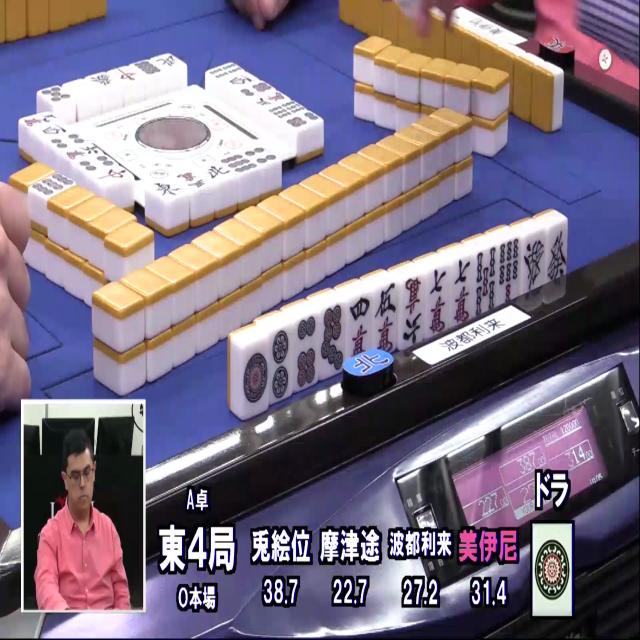1D: (531, 523, 576, 615), (238, 340, 270, 416)
2D: (268, 327, 295, 404)
4C: (345, 293, 374, 358)
5B: (474, 248, 500, 318)
5C: (373, 282, 401, 354)
6C: (399, 276, 429, 349)
6D: (292, 315, 321, 391)
7B: (498, 239, 523, 307)
7C: (425, 264, 452, 336), (450, 256, 474, 326)
7D: (318, 302, 346, 377)
GD: (525, 234, 549, 294), (548, 227, 569, 289)
